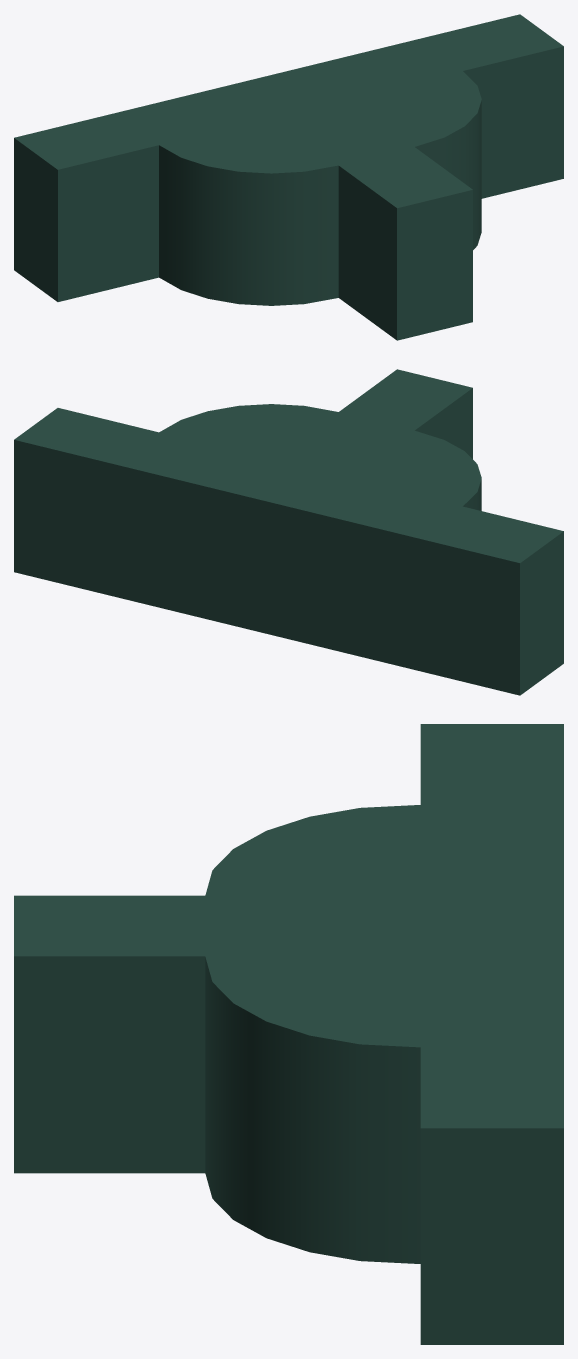
File: W2_WallCorner_Round2C_Top.fbx
The picture shows the model from 3 angles, top to bottom: view 1: azimuth 30°, elevation 25°; view 2: azimuth 150°, elevation 25°; view 3: azimuth 270°, elevation 25°; orthographic projection. The views are drawn at different scales.
Parts seen in each view (by area): view 1: W2_WallCorner_Round2C_Top.001; view 2: W2_WallCorner_Round2C_Top.001; view 3: W2_WallCorner_Round2C_Top.001.
Boxes of the visible parts, left/top/right/bottom form: W2_WallCorner_Round2C_Top.001: left=14, top=14, right=563, bottom=340; W2_WallCorner_Round2C_Top.001: left=14, top=369, right=563, bottom=695; W2_WallCorner_Round2C_Top.001: left=14, top=724, right=563, bottom=1344.
Size of the model in its own units: 2 by 0.5 by 1.15.
